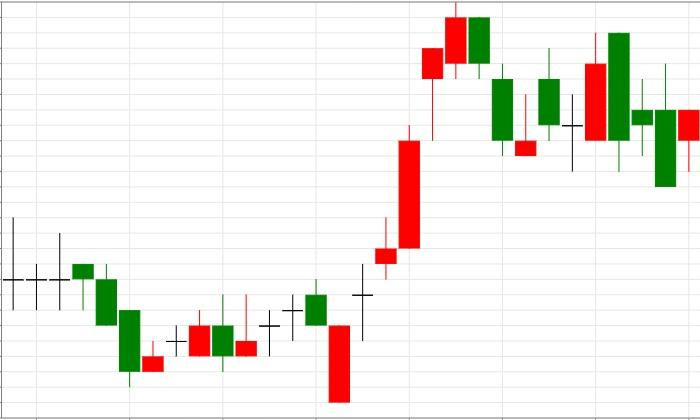bearish_engulfing_fall: (514, 33, 629, 172)
hanging_man_fall: (328, 47, 443, 403)
